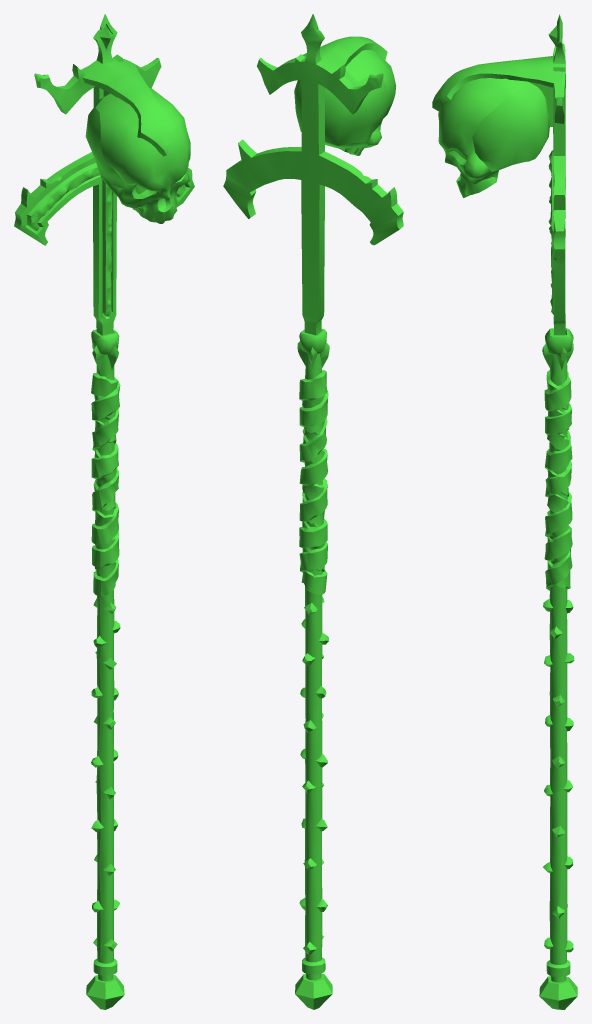
The model's file is SM_Undead_Staff_4.fbx.
3 views of the same model, side by side, from view 1: azimuth 30°, elevation 25°; view 2: azimuth 150°, elevation 25°; view 3: azimuth 270°, elevation 25° (orthographic).
Visible parts, largest first — view 1: SM_Undead_Staff_4; view 2: SM_Undead_Staff_4; view 3: SM_Undead_Staff_4.
Boxes of the visible parts, x1=… form: SM_Undead_Staff_4: x1=14, y1=14, x2=194, y2=1009; SM_Undead_Staff_4: x1=223, y1=14, x2=403, y2=1009; SM_Undead_Staff_4: x1=432, y1=14, x2=577, y2=1009.
Size of the model in its own units: 0.3678 by 1.98 by 0.2622.
